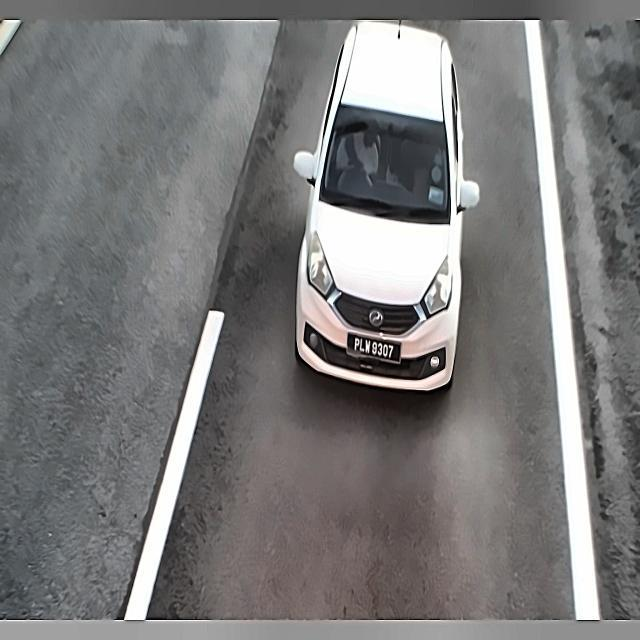car: (342, 326, 407, 363)
